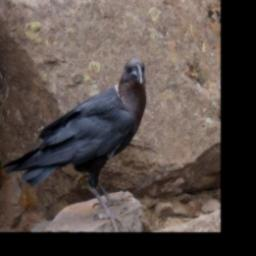Crow: (1, 56, 146, 231)
